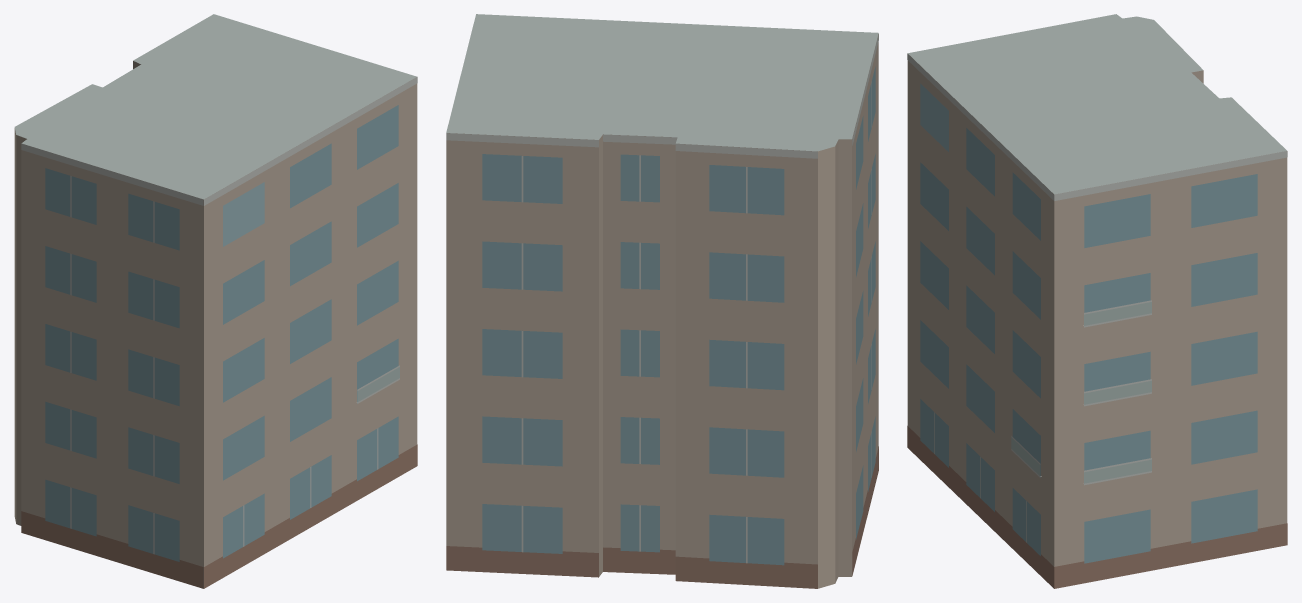
File: survey-upis-32747990.glb
3 views of the same model, side by side, from view 1: azimuth 30°, elevation 25°; view 2: azimuth 150°, elevation 25°; view 3: azimuth 270°, elevation 25° (orthographic). The views are drawn at different scales.
Visible parts, largest first — view 1: survey-upis-32747990.tmp; view 2: survey-upis-32747990.tmp; view 3: survey-upis-32747990.tmp.
Part boxes in pixels (x1,y1,x2,y2): survey-upis-32747990.tmp: [14, 14, 417, 588]; survey-upis-32747990.tmp: [446, 14, 878, 588]; survey-upis-32747990.tmp: [907, 14, 1287, 588].
Size of the model in its own units: 14.25 by 14.5 by 12.67.
